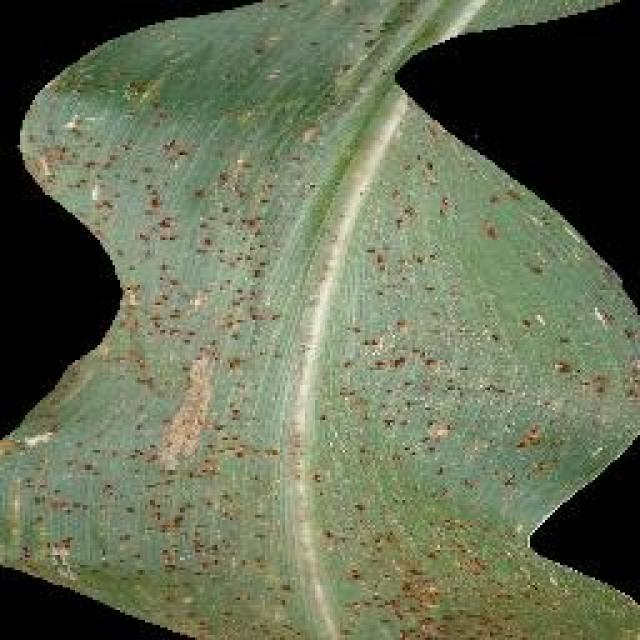Corn Common Rust: (42, 150, 640, 638)
